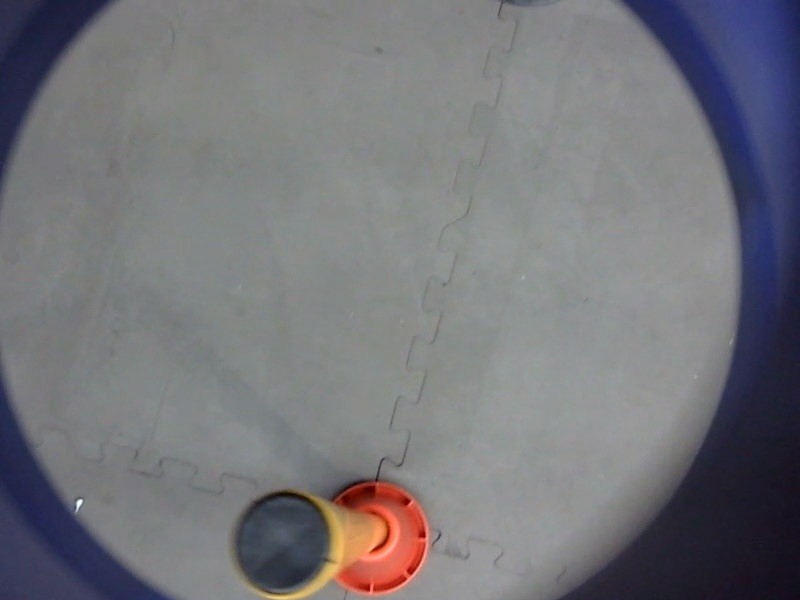tip: (227, 481, 354, 600)
